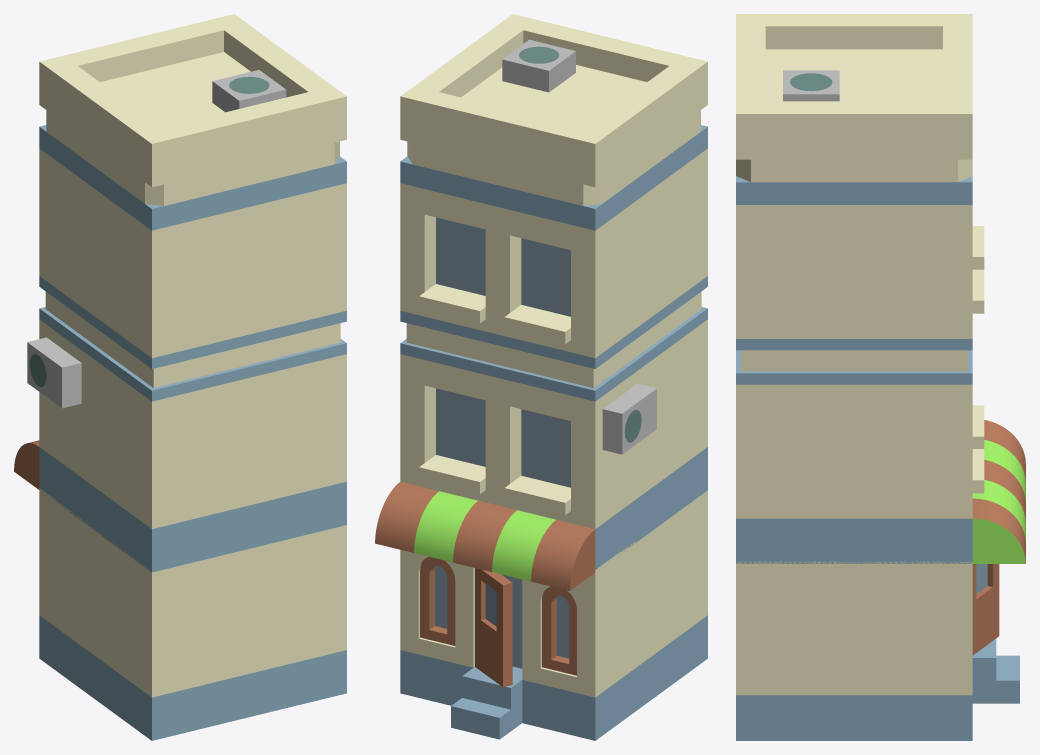
File: SM_Building_02.fbx
3 renders of one model, left to right at view 1: azimuth 30°, elevation 25°; view 2: azimuth 150°, elevation 25°; view 3: azimuth 270°, elevation 25°, orthographic. The views are drawn at different scales.
Visible parts, largest first — view 1: SM_Building_02; view 2: SM_Building_02; view 3: SM_Building_02.
Part boxes in pixels (<box>): SM_Building_02: <box>14,14,346,740</box>; SM_Building_02: <box>375,14,707,740</box>; SM_Building_02: <box>736,14,1025,740</box>.
Size of the model in its own units: 440 by 1170 by 490.
